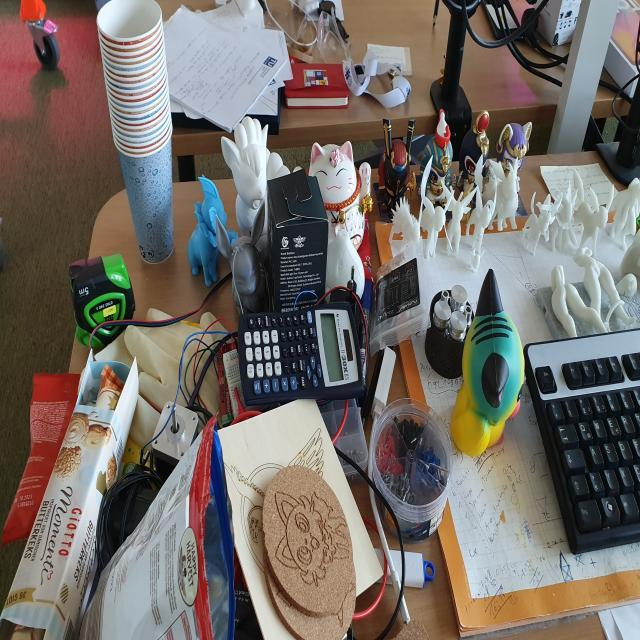Calculator: (238, 302, 365, 407)
